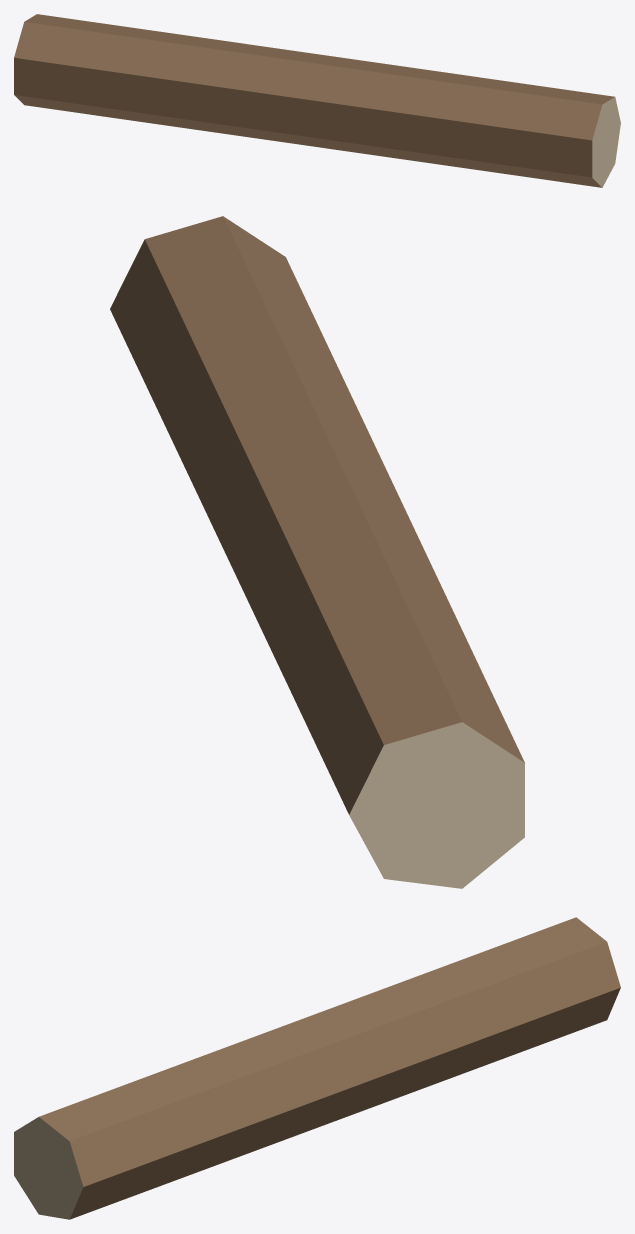
File: tronco_caido_2.glb
The picture shows the model from 3 angles, top to bottom: view 1: azimuth 30°, elevation 25°; view 2: azimuth 150°, elevation 25°; view 3: azimuth 270°, elevation 25°; orthographic projection. The views are drawn at different scales.
Parts seen in each view (by area): view 1: FallenLog_Front_2; view 2: FallenLog_Front_2; view 3: FallenLog_Front_2.
Part boxes in pixels (box(x1,y1,x2,y2)): FallenLog_Front_2: box(14, 14, 620, 187); FallenLog_Front_2: box(110, 216, 524, 888); FallenLog_Front_2: box(14, 917, 620, 1219).
Bounding box in the file's own units: 2.91 × 0.5688 × 3.2.
